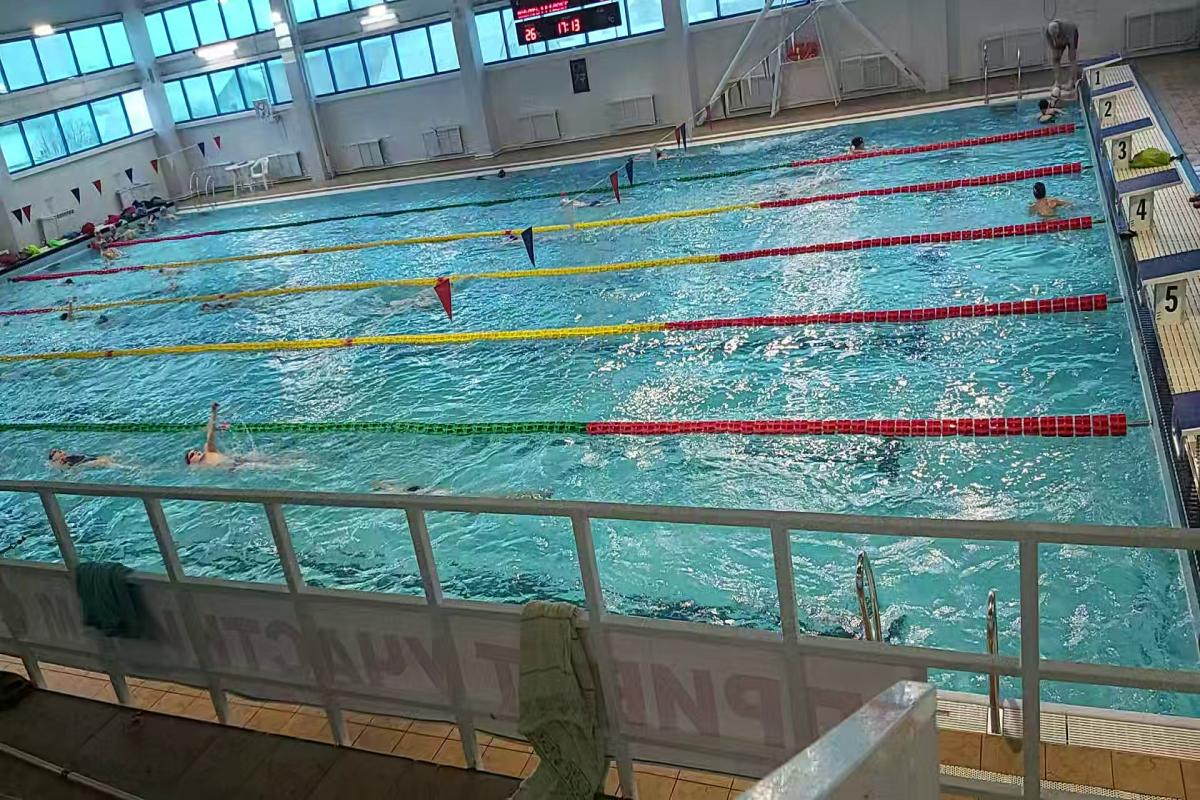swimmer: (178, 401, 300, 481), (44, 437, 160, 473), (382, 481, 529, 503), (1023, 174, 1082, 222), (198, 296, 248, 318), (57, 295, 84, 324)
